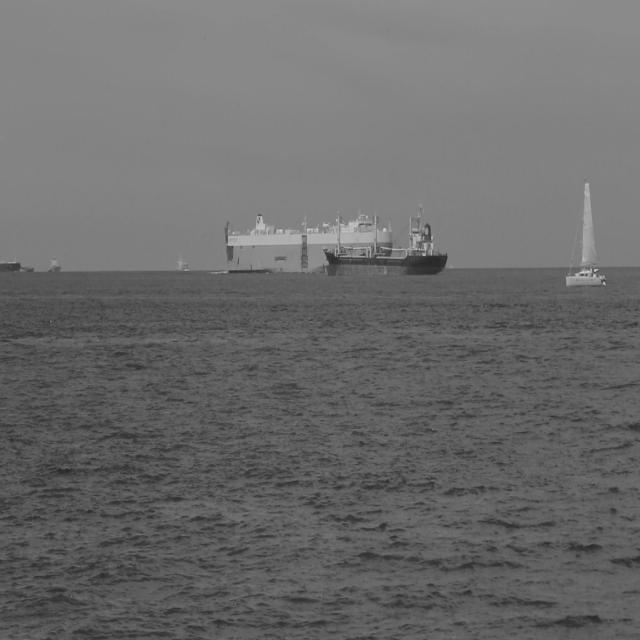ship: (223, 209, 393, 276), (320, 200, 450, 278), (564, 178, 607, 288), (0, 256, 21, 274), (47, 252, 62, 274), (20, 263, 34, 274)
